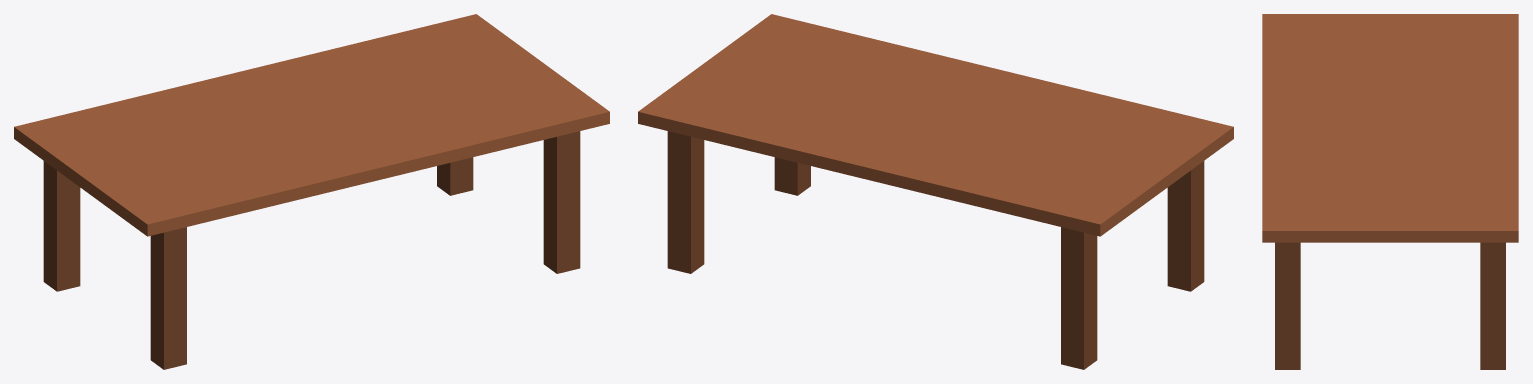
File: Table.fbx
The picture shows the model from 3 angles, left to right: view 1: azimuth 30°, elevation 25°; view 2: azimuth 150°, elevation 25°; view 3: azimuth 270°, elevation 25°; orthographic projection. The views are drawn at different scales.
Visible parts, largest first — view 1: Top, Legs; view 2: Top, Legs; view 3: Top, Legs.
Boxes of the visible parts, x1,y1,x2,y2 form: Top: (14,14,609,236); Legs: (43,131,580,369); Top: (638,14,1233,236); Legs: (667,131,1204,369); Top: (1262,14,1518,242); Legs: (1275,242,1505,369).
Size of the model in its own units: 2000 by 645 by 1000.
